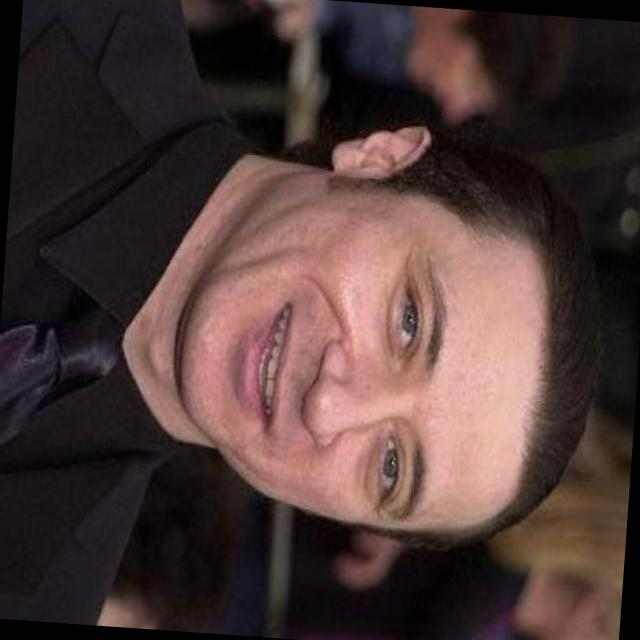bareface: (176, 130, 596, 560)
